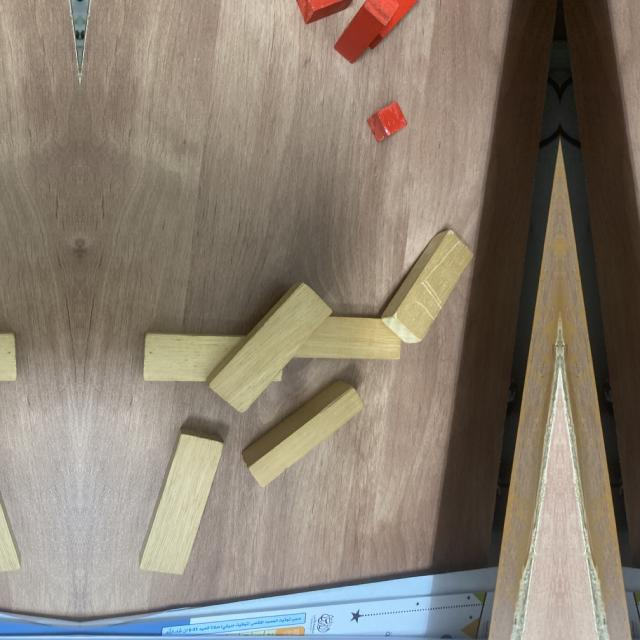jenga: (206, 282, 333, 414), (241, 379, 366, 488), (139, 426, 224, 575), (381, 230, 474, 344), (144, 331, 247, 388), (294, 316, 401, 360)
red block: (332, 1, 399, 64), (368, 0, 418, 50), (296, 0, 353, 24)
red cube: (366, 102, 408, 143)
